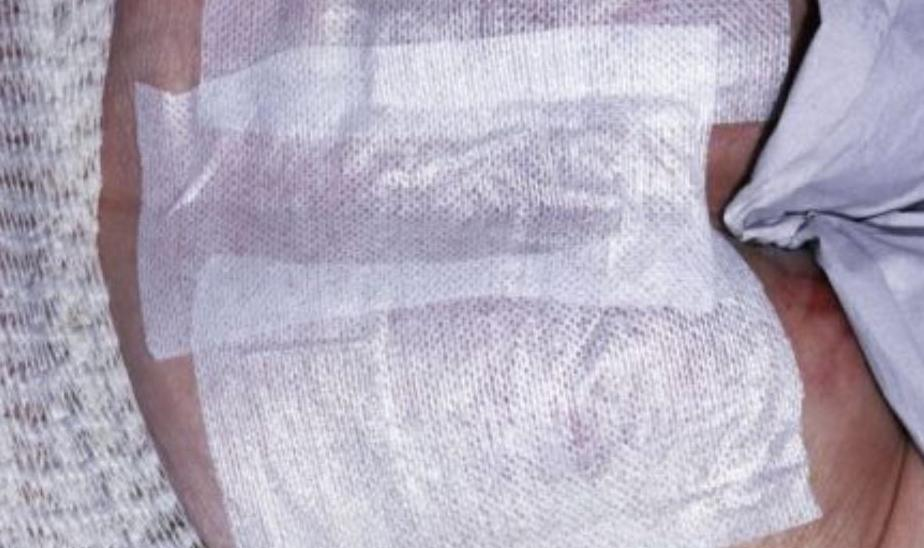Stage3: (697, 88, 879, 403)
